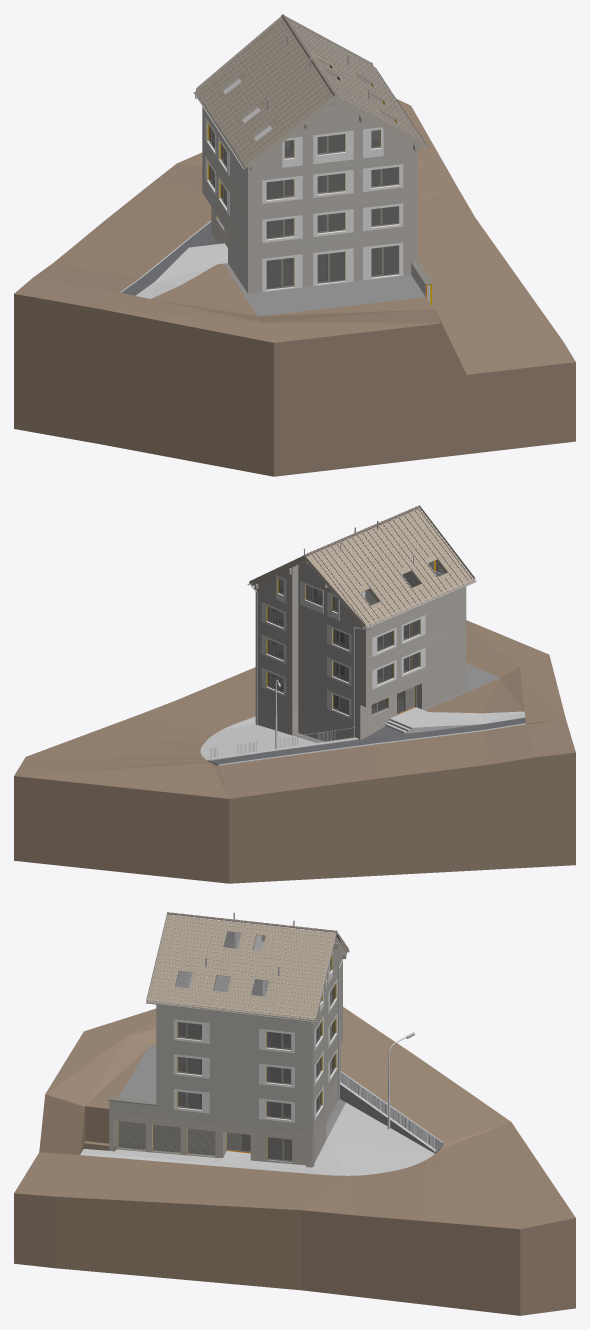
Rendered from ZGRAGGEN_test_draco_ktx2.glb.
3 views of the same model, one above another, from view 1: azimuth 30°, elevation 25°; view 2: azimuth 150°, elevation 25°; view 3: azimuth 270°, elevation 25° (orthographic). The views are drawn at different scales.
Size of what is drawn, in the model's own units: 42.34 by 24.97 by 43.91.
